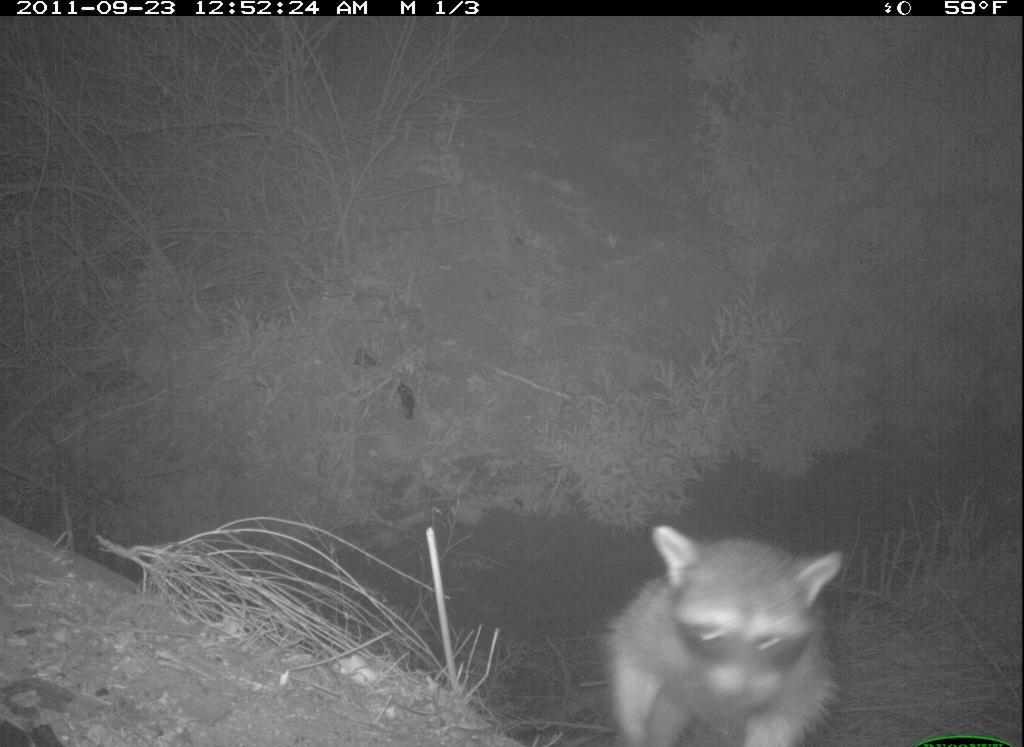raccoon: (568, 520, 875, 745)
